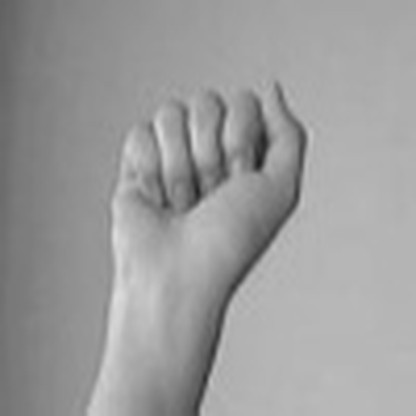a: (88, 64, 323, 295)
